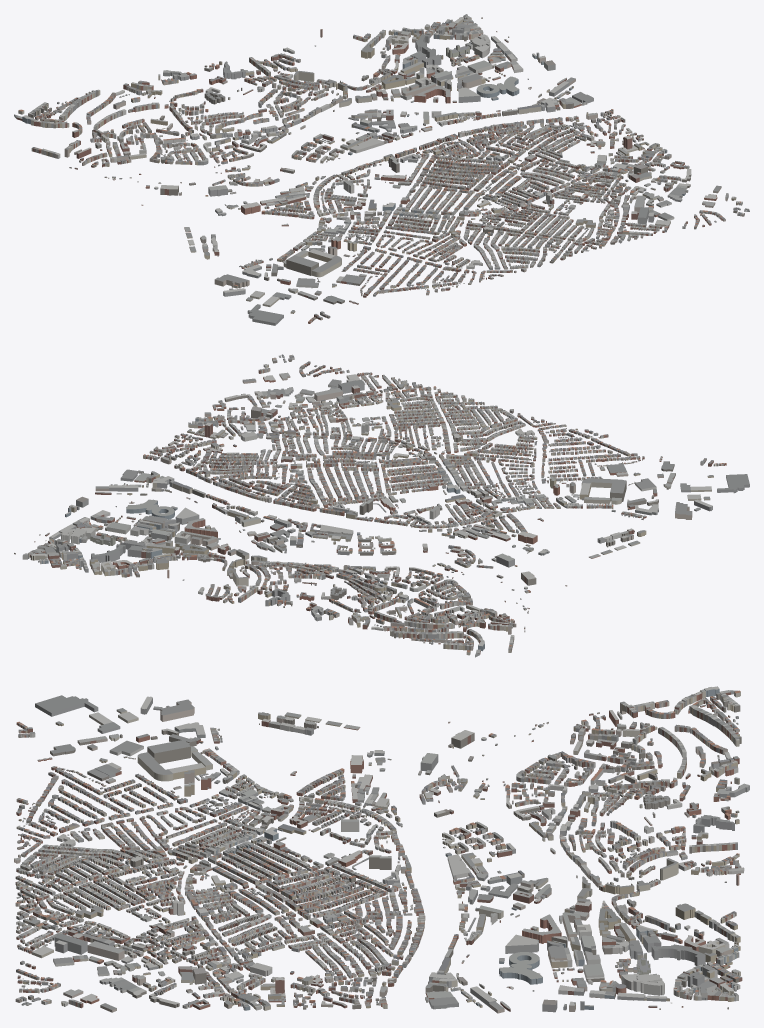
Rendered from buildings_b0_1_1.glb.
3 views of the same model, one above another, from view 1: azimuth 30°, elevation 25°; view 2: azimuth 150°, elevation 25°; view 3: azimuth 270°, elevation 25° (orthographic). The views are drawn at different scales.
Visible parts, largest first — view 1: t06_05_buildings_b0, t06_04_buildings_b0, t07_05_buildings_b0, t07_07_buildings_b0, t05_05_buildings_b0, t05_07_buildings_b0, t05_04_buildings_b0, t04_07_buildings_b0, t07_04_buildings_b0, t07_06_buildings_b0, t06_07_buildings_b0, t06_06_buildings_b0 (+4 smaller); view 2: t06_04_buildings_b0, t06_05_buildings_b0, t07_07_buildings_b0, t07_05_buildings_b0, t05_05_buildings_b0, t05_04_buildings_b0, t07_04_buildings_b0, t07_06_buildings_b0, t04_07_buildings_b0, t05_07_buildings_b0, t06_06_buildings_b0, t04_04_buildings_b0 (+4 smaller); view 3: t06_05_buildings_b0, t06_04_buildings_b0, t07_07_buildings_b0, t07_05_buildings_b0, t05_05_buildings_b0, t07_04_buildings_b0, t05_04_buildings_b0, t04_07_buildings_b0, t05_07_buildings_b0, t06_07_buildings_b0, t07_06_buildings_b0, t04_04_buildings_b0 (+4 smaller).
Part boxes in pixels (x1,y1,x2,y2): t06_05_buildings_b0: [381, 141, 564, 219]; t06_04_buildings_b0: [448, 190, 630, 272]; t07_05_buildings_b0: [500, 114, 684, 190]; t07_07_buildings_b0: [364, 14, 545, 96]; t05_05_buildings_b0: [260, 173, 446, 249]; t05_07_buildings_b0: [123, 61, 307, 151]; t05_04_buildings_b0: [328, 220, 512, 295]; t04_07_buildings_b0: [14, 89, 192, 169]; t07_04_buildings_b0: [566, 165, 749, 239]; t07_06_buildings_b0: [414, 60, 613, 140]; t06_07_buildings_b0: [249, 29, 419, 119]; t06_06_buildings_b0: [340, 97, 497, 172]; t06_04_buildings_b0: [334, 380, 520, 461]; t06_05_buildings_b0: [269, 433, 450, 512]; t07_07_buildings_b0: [14, 504, 217, 577]; t07_05_buildings_b0: [149, 402, 331, 478]; t05_05_buildings_b0: [390, 461, 563, 541]; t05_04_buildings_b0: [454, 414, 624, 493]; t07_04_buildings_b0: [218, 354, 400, 432]; t07_06_buildings_b0: [76, 454, 263, 537]; t04_07_buildings_b0: [371, 591, 525, 657]; t05_07_buildings_b0: [264, 562, 433, 629]; t06_06_buildings_b0: [205, 481, 373, 553]; t04_04_buildings_b0: [574, 451, 749, 519]; t06_05_buildings_b0: [194, 850, 381, 931]; t06_04_buildings_b0: [14, 851, 202, 929]; t07_07_buildings_b0: [551, 912, 742, 1011]; t07_05_buildings_b0: [188, 924, 380, 1010]; t05_05_buildings_b0: [195, 774, 380, 858]; t07_04_buildings_b0: [15, 923, 199, 1012]; t05_04_buildings_b0: [16, 770, 199, 857]; t04_07_buildings_b0: [557, 686, 741, 784]; t05_07_buildings_b0: [556, 756, 749, 857]; t06_07_buildings_b0: [559, 839, 744, 935]; t07_06_buildings_b0: [375, 914, 566, 1013]; t04_04_buildings_b0: [16, 695, 205, 781].
Size of the model in its own units: 2068 by 106 by 2043.
